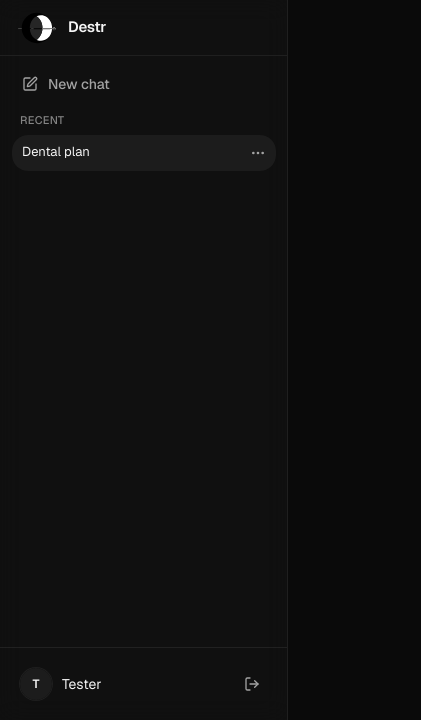
AppSidebar conversation nav › renames inline through the options menu
This screenshot has width=421, height=720.
Expected: the link with test id "conversation-item" is shown, [22,143,90,160]
# Radix menus open on pointerdown, not click.
Step 1. Press the mouse on the button with test id "conversation-options" → (258, 152), box [244,138,272,166]
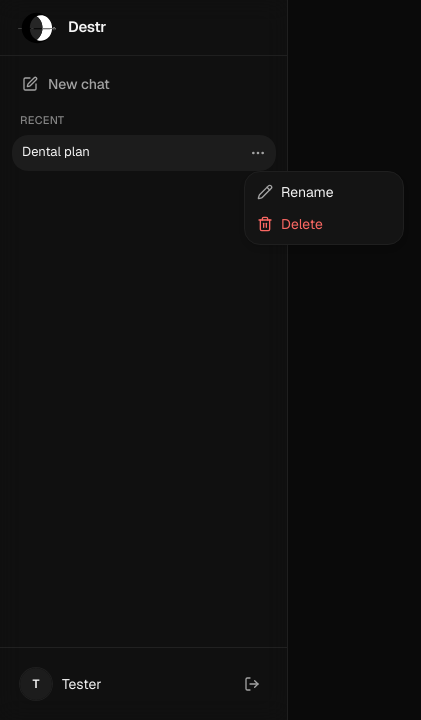
Step 2. Click the menu item with test id "conversation-rename" → (295, 192), box [257,183,334,201]
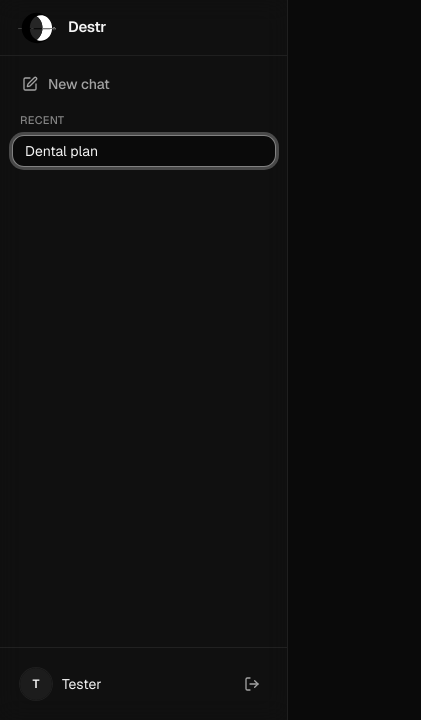
Step 3. Replace the text in the field with test id "conversation-rename-input" with "New title" → (144, 150), box [12,134,276,166]
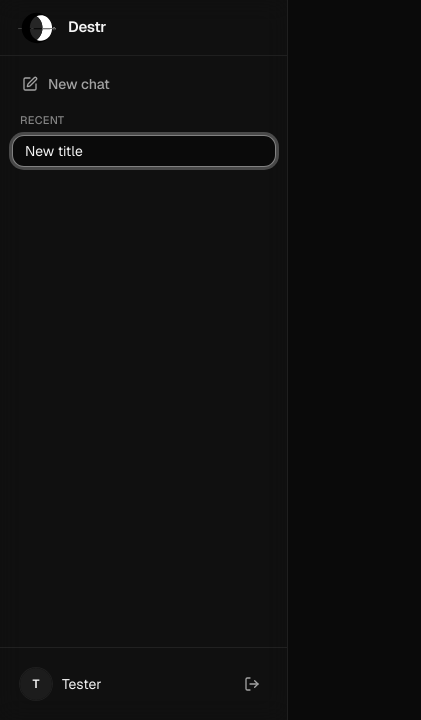
Step 4. Press Enter in the field with test id "conversation-rename-input", box [12,134,276,166]
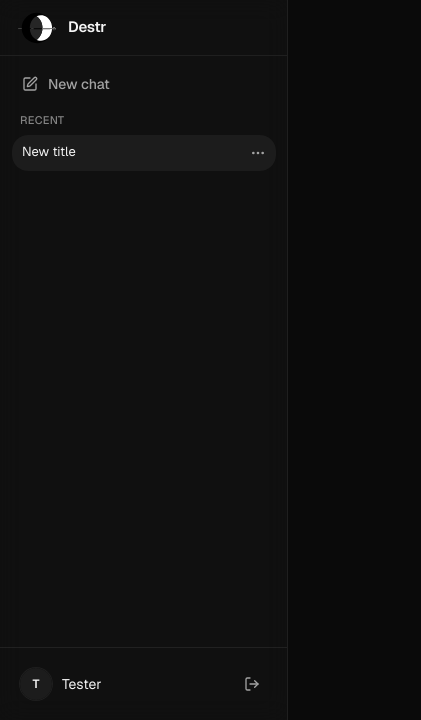
Now the text "New title" is shown, box [22,143,76,162]
